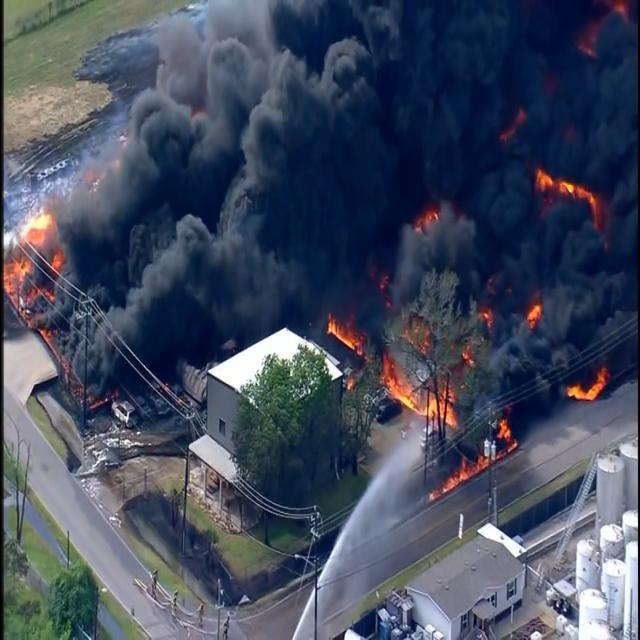Fire: (317, 290, 472, 428), (427, 411, 519, 508), (0, 205, 63, 342), (538, 167, 610, 245), (569, 0, 633, 60), (565, 364, 614, 409), (406, 194, 451, 236), (502, 94, 526, 153), (522, 298, 543, 334)
Smoke: (20, 0, 640, 430)
